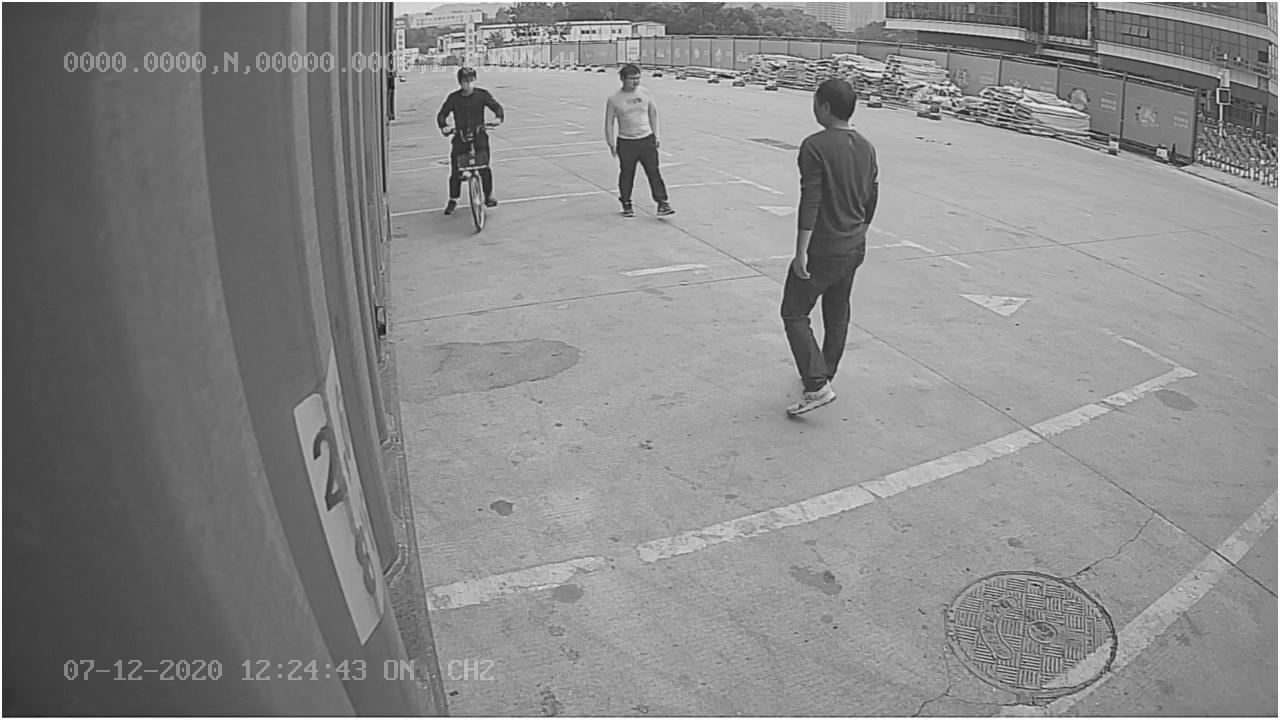person: (775, 75, 883, 421), (599, 60, 686, 221)
